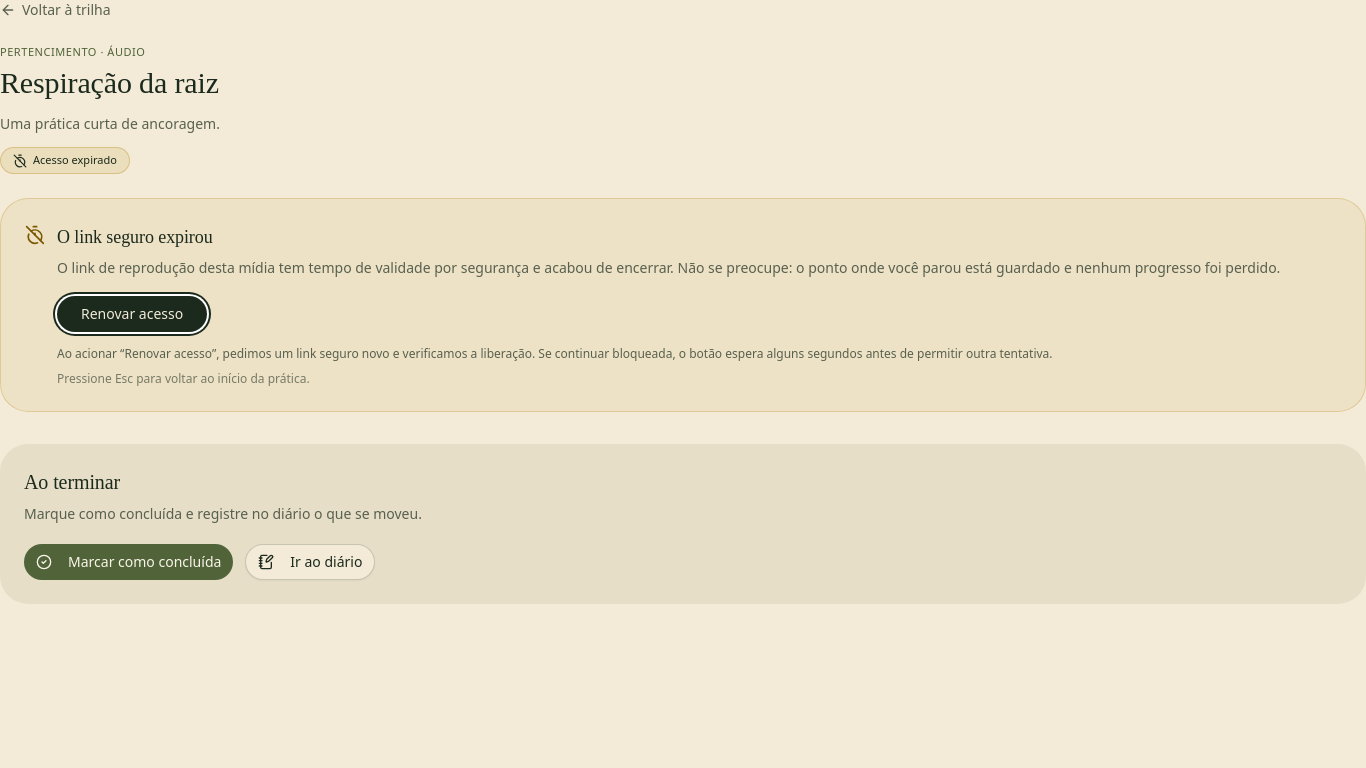
Test: player — expiração da URL assinada › falha de rede na renovação: mensagem separada de erro de conexão e botão de tentar
Later steps or results of the test are not shown.
expect the heading "O link seguro expirou" is shown: met, box [57, 227, 213, 247]
Click the button "Renovar acesso" at (132, 314), box [57, 296, 207, 332]
(page scrolled)
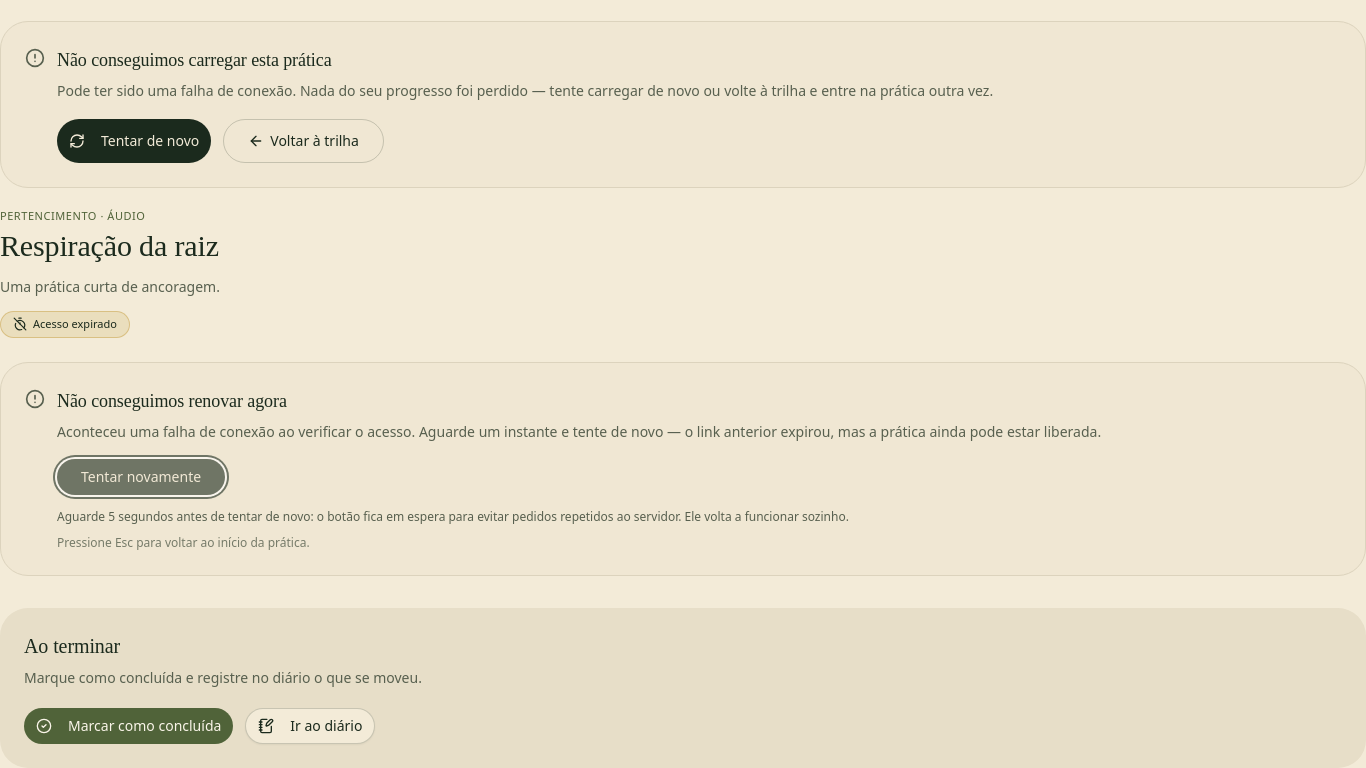
expect the heading "Não conseguimos renovar agora" is shown: met, box [57, 390, 287, 410]
expect the text "Aconteceu uma falha de conexão" is shown: met, box [57, 422, 1101, 440]
expect the button "Tentar novamente" is shown: met, box [57, 459, 225, 495]
